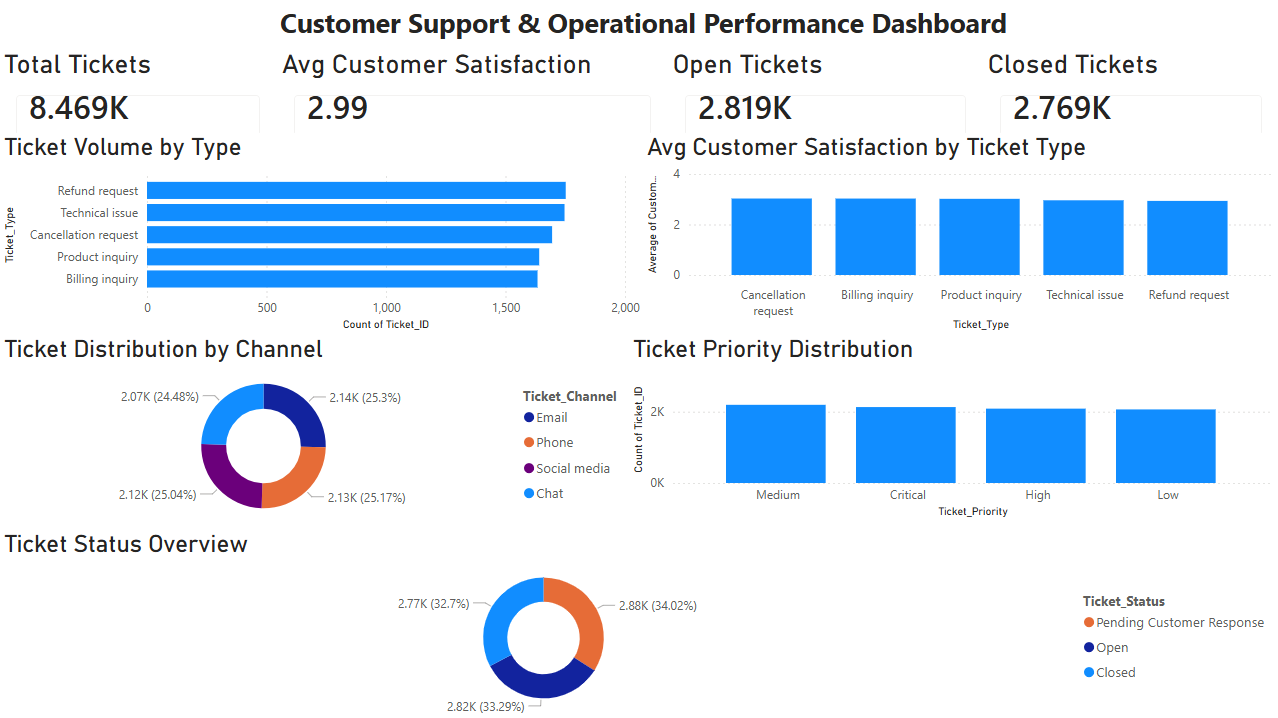

This screenshot's page, from the dashboard's own definition file:
{"tool":"powerbi","page":{"name":"Page 1","canvas":[1280,720],"ordinal":0},"visuals":[{"type":"textbox","box":[9.5,0,1270.5,67.2],"z":0},{"type":"cardVisual","title":"Total Tickets","fields":{"Data":["CountNonNull(customer_support_tickets.Ticket_ID)"]},"box":[0,48.8,277.5,105],"z":1000},{"type":"cardVisual","title":"Avg Customer Satisfaction","fields":{"Data":["Avg(customer_support_tickets.Customer_Satisfaction_Rating)"]},"box":[277.5,48.8,391.2,105],"z":2000},{"type":"cardVisual","title":"Open Tickets","fields":{"Data":["CountNonNull(customer_support_tickets.Ticket_Status)"]},"box":[668.8,48.8,315,105],"z":3000},{"type":"cardVisual","title":"Closed Tickets","fields":{"Data":["CountNonNull(customer_support_tickets.Ticket_Status)"]},"box":[983.8,48.8,296.2,105],"z":4000},{"type":"clusteredBarChart","title":"Ticket Volume by Type","fields":{"Category":["customer_support_tickets.Ticket_Type"],"Y":["CountNonNull(customer_support_tickets.Ticket_ID)"]},"box":[0,133.8,646.2,202.5],"z":5000},{"type":"clusteredColumnChart","title":"Avg Customer Satisfaction by Ticket Type","fields":{"Category":["customer_support_tickets.Ticket_Type"],"Y":["Avg(customer_support_tickets.Customer_Satisfaction_Rating)"]},"box":[642.5,133.8,635,202.5],"z":6000},{"type":"donutChart","title":"Ticket Distribution by Channel","fields":{"Category":["customer_support_tickets.Ticket_Channel"],"Y":["CountNonNull(customer_support_tickets.Ticket_ID)"]},"box":[0,336.2,640,195],"z":7000},{"type":"clusteredColumnChart","title":"Ticket Priority Distribution","fields":{"Category":["customer_support_tickets.Ticket_Priority"],"Y":["CountNonNull(customer_support_tickets.Ticket_ID)"]},"box":[628.8,336.2,648.8,186.2],"z":8000},{"type":"donutChart","title":"Ticket Status Overview","fields":{"Category":["customer_support_tickets.Ticket_Status"],"Y":["CountNonNull(customer_support_tickets.Ticket_Status)"]},"box":[0,531.2,1280,188.8],"z":9000}]}

Visuals, with their boxes in screenshot pixels (x1, y1, x2, y2), scaled from the page's 1280x720 canvas onto the 1278x718 screenshot:
textbox: (x1=9, y1=0, x2=1277, y2=67)
"Total Tickets" cardVisual: (x1=0, y1=49, x2=277, y2=153)
"Avg Customer Satisfaction" cardVisual: (x1=277, y1=49, x2=668, y2=153)
"Open Tickets" cardVisual: (x1=668, y1=49, x2=982, y2=153)
"Closed Tickets" cardVisual: (x1=982, y1=49, x2=1277, y2=153)
"Ticket Volume by Type" clusteredBarChart: (x1=0, y1=133, x2=645, y2=335)
"Avg Customer Satisfaction by Ticket Type" clusteredColumnChart: (x1=641, y1=133, x2=1276, y2=335)
"Ticket Distribution by Channel" donutChart: (x1=0, y1=335, x2=639, y2=530)
"Ticket Priority Distribution" clusteredColumnChart: (x1=628, y1=335, x2=1276, y2=521)
"Ticket Status Overview" donutChart: (x1=0, y1=530, x2=1277, y2=717)
